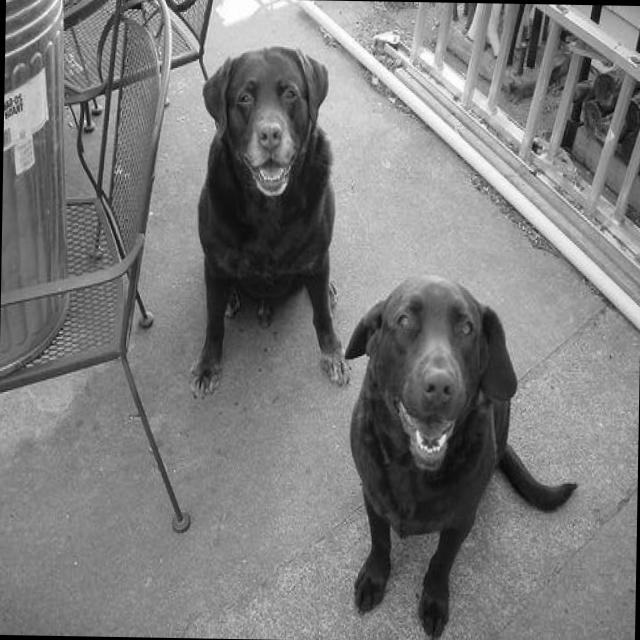sitting: (323, 269, 583, 640), (172, 39, 361, 406)
